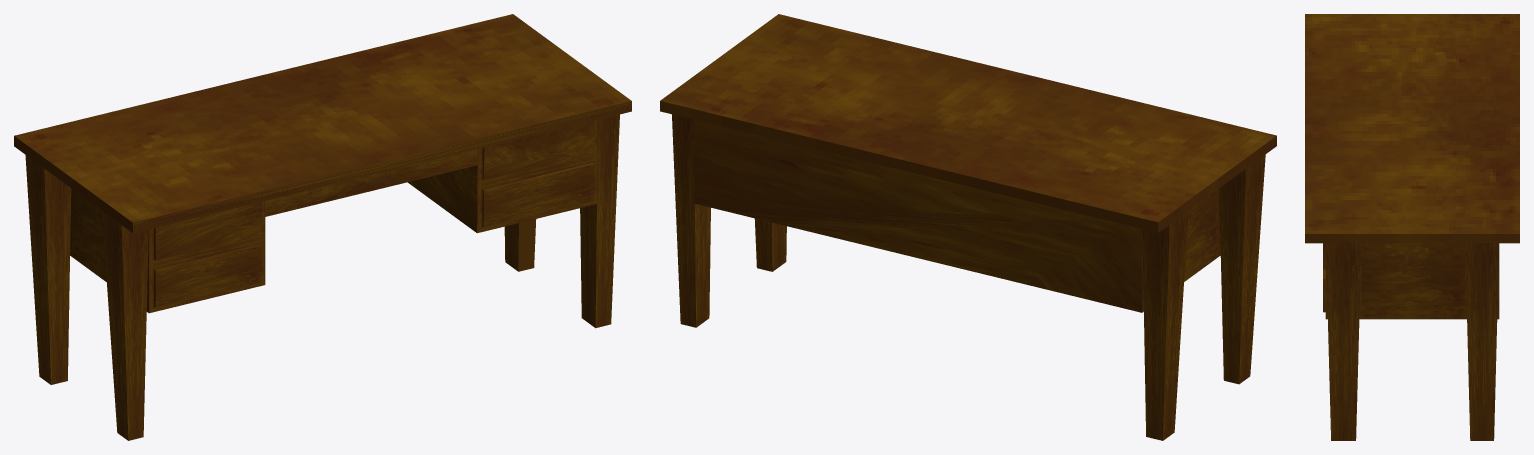
Rendered from desk.glb.
The picture shows the model from 3 angles, left to right: view 1: azimuth 30°, elevation 25°; view 2: azimuth 150°, elevation 25°; view 3: azimuth 270°, elevation 25°; orthographic projection. The views are drawn at different scales.
Parts seen in each view (by area): view 1: Cube; view 2: Cube; view 3: Cube.
Part boxes in pixels (x1=…): Cube: x1=14, y1=14, x2=631, y2=440; Cube: x1=660, y1=14, x2=1276, y2=440; Cube: x1=1305, y1=14, x2=1519, y2=440.
Size of the model in its own units: 9.89 by 4.4 by 4.08.
Materials: 1 (1 with a texture image).
